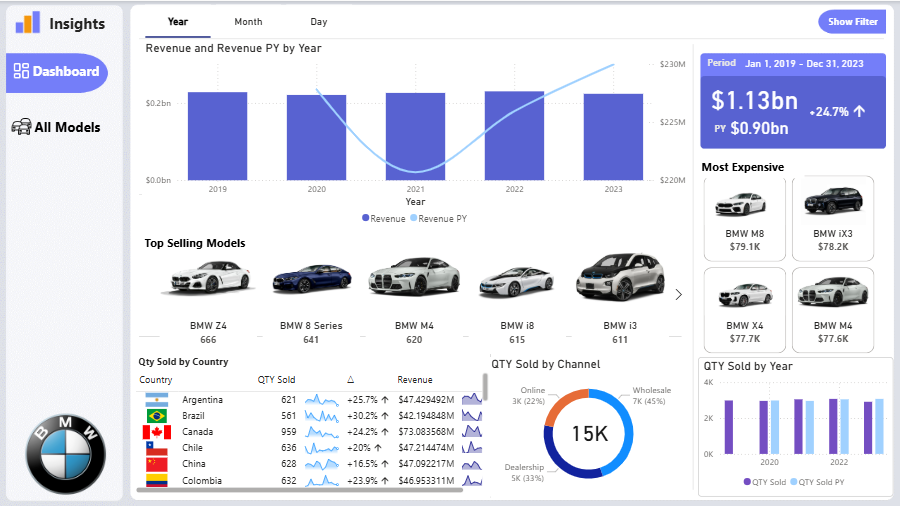

The dashboard page shown, as its layout file describes it:
{"tool":"powerbi","page":{"name":"Dashboard","canvas":[1280,720],"ordinal":0},"visuals":[{"type":"lineClusteredColumnComboChart","fields":{"Category":["Calender.Year"],"Y":["All Measures.Revenue"],"Y2":["All Measures.Revenue PY"]},"box":[202.6,57.1,776.3,269.7],"z":0},{"type":"advancedSlicerVisual","fields":{"Values":["Period.Period"]},"box":[202.6,0,302.5,57.1],"z":1000},{"type":"card","fields":{"Values":["All Measures.Revenue"]},"box":[1001.1,109.1,141.2,57.2],"z":2000},{"type":"card","fields":{"Values":["All Measures.Revenue PY"]},"box":[1016.2,157.3,123.3,42.5],"z":3000},{"type":"textbox","box":[1009.2,167,34.2,28.5],"z":4000},{"type":"card","fields":{"Values":["All Measures.Revenue Variance %  Arrow"]},"box":[1127.3,135.6,122.7,42.8],"z":5000},{"type":"textbox","box":[998.9,74.2,51.4,32.8],"z":6000},{"type":"card","fields":{"Values":["All Measures.Selected Period"]},"box":[1041.7,74.2,199.8,32.8],"z":7000},{"type":"advancedSlicerVisual","fields":{"Values":["Dim Model.Model"]},"box":[202.6,326.8,776.3,178.4],"z":8000},{"type":"textbox","box":[201.9,326.6,166.8,35.1],"z":9000},{"type":"advancedSlicerVisual","fields":{"Values":["Dim Model.Model"]},"box":[973.9,241.9,294,262.6],"z":10000},{"type":"textbox","box":[990.3,218.3,151.3,32.8],"z":11000},{"type":"clusteredColumnChart","title":"QTY Sold by Year","fields":{"Category":["Calender.Year"],"Y":["All Measures.QTY Sold","All Measures.QTY Sold PY"]},"box":[990.3,505.2,276.8,198.4],"z":12000},{"type":"donutChart","fields":{"Y":["All Measures.QTY Sold"],"Category":["Dim Channel.Channel"]},"box":[693.5,505.2,285.4,198.4],"z":13000},{"type":"card","fields":{"Values":["All Measures.QTY Sold"]},"box":[789.1,580.8,94.2,59.9],"z":14000},{"type":"tableEx","fields":{"Values":["Dim Country.Flag","Dim Country.Country","All Measures.QTY Sold","All Measures.Opaque Area Sparkline (no one value) bright","All Measures.QTY Sold Variance %  Arrow","All Measures.Revenue","All Measures.Revenue Sparkline"]},"box":[192.6,522.3,500.9,181.2],"z":15000},{"type":"textbox","box":[192.6,502.3,165.5,22.8],"z":16000},{"type":"textbox","box":[40,87,111.3,34.2],"z":17000},{"type":"image","box":[12.8,81.3,38.5,35.7],"z":18000},{"type":"textbox","box":[41.1,165.8,112,35.4],"z":19000},{"type":"actionButton","box":[1160.1,8.6,99.9,40],"z":20000},{"type":"image","box":[9.9,158.7,43.9,38.3],"z":21000},{"type":"actionButton","box":[12.8,154.5,150.2,48.2],"z":22000},{"type":"image","box":[12.8,579.7,163,124.7],"z":24000},{"type":"textbox","box":[62.4,17,96.4,29.8],"z":25000},{"type":"image","box":[2.8,4.3,75.1,48.2],"z":26000}]}

Visuals, with their boxes on the page's 1280x720 design canvas (x1, y1, x2, y2). These are canvas units, not pixel positions in the 900x506 screenshot, which may show the page scaled, cropped or inside an application window:
lineClusteredColumnComboChart - Calender.Year x All Measures.Revenue: [left=203, top=57, right=979, bottom=327]
advancedSlicerVisual - Period.Period: [left=203, top=0, right=505, bottom=57]
card - All Measures.Revenue: [left=1001, top=109, right=1142, bottom=166]
card - All Measures.Revenue PY: [left=1016, top=157, right=1140, bottom=200]
textbox: [left=1009, top=167, right=1043, bottom=196]
card - All Measures.Revenue Variance %  Arrow: [left=1127, top=136, right=1250, bottom=178]
textbox: [left=999, top=74, right=1050, bottom=107]
card - All Measures.Selected Period: [left=1042, top=74, right=1242, bottom=107]
advancedSlicerVisual - Dim Model.Model: [left=203, top=327, right=979, bottom=505]
textbox: [left=202, top=327, right=369, bottom=362]
advancedSlicerVisual - Dim Model.Model: [left=974, top=242, right=1268, bottom=504]
textbox: [left=990, top=218, right=1142, bottom=251]
"QTY Sold by Year" clusteredColumnChart: [left=990, top=505, right=1267, bottom=704]
donutChart - All Measures.QTY Sold x Dim Channel.Channel: [left=694, top=505, right=979, bottom=704]
card - All Measures.QTY Sold: [left=789, top=581, right=883, bottom=641]
tableEx - Dim Country.Flag x Dim Country.Country: [left=193, top=522, right=694, bottom=704]
textbox: [left=193, top=502, right=358, bottom=525]
textbox: [left=40, top=87, right=151, bottom=121]
image: [left=13, top=81, right=51, bottom=117]
textbox: [left=41, top=166, right=153, bottom=201]
actionButton: [left=1160, top=9, right=1260, bottom=49]
image: [left=10, top=159, right=54, bottom=197]
actionButton: [left=13, top=154, right=163, bottom=203]
image: [left=13, top=580, right=176, bottom=704]
textbox: [left=62, top=17, right=159, bottom=47]
image: [left=3, top=4, right=78, bottom=52]
